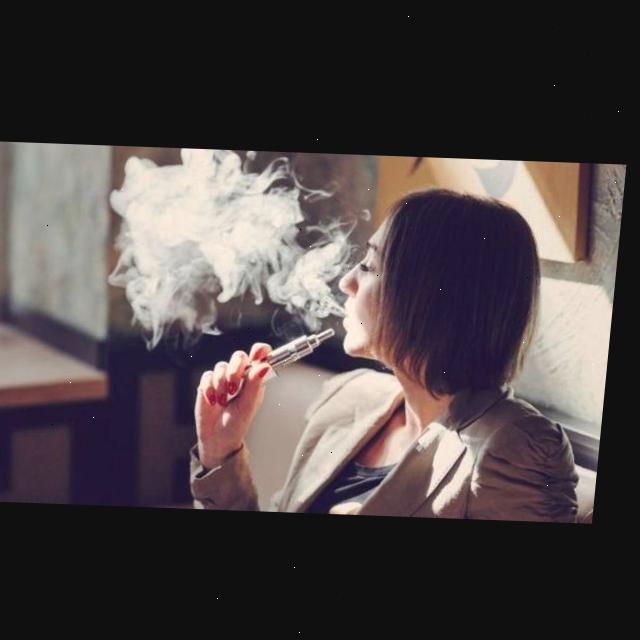vape: (227, 321, 342, 401)
